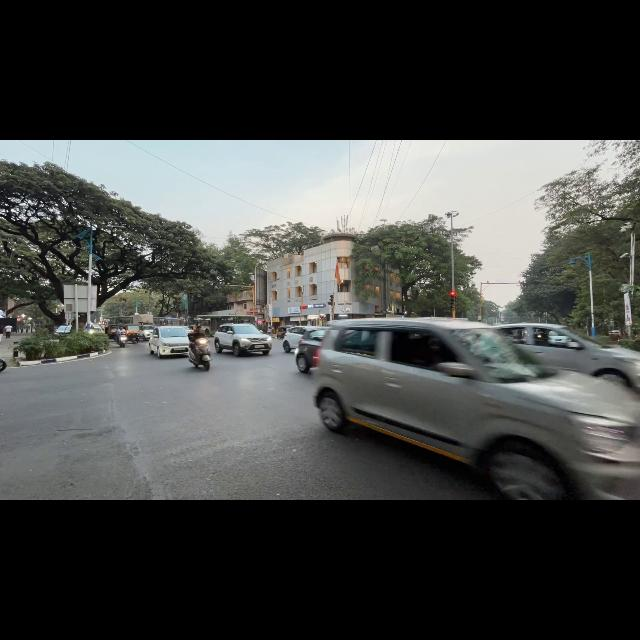car: (315, 318, 639, 499), (497, 323, 639, 389), (214, 324, 271, 356), (295, 327, 328, 373), (149, 326, 189, 358), (283, 326, 310, 352), (548, 331, 571, 344), (139, 323, 156, 340), (125, 324, 140, 342), (54, 325, 72, 339), (105, 325, 119, 340), (276, 326, 291, 339), (608, 330, 622, 342), (88, 324, 104, 334), (183, 326, 192, 333)
motorcycle: (188, 338, 210, 370), (118, 335, 128, 347), (0, 359, 6, 371)
